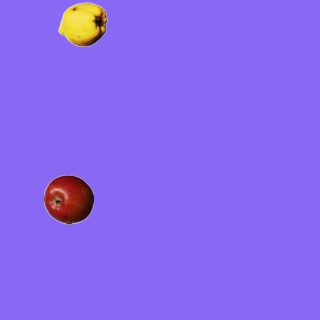Apple Braeburn: (43, 174, 93, 224)
Quince: (57, 0, 107, 49)
